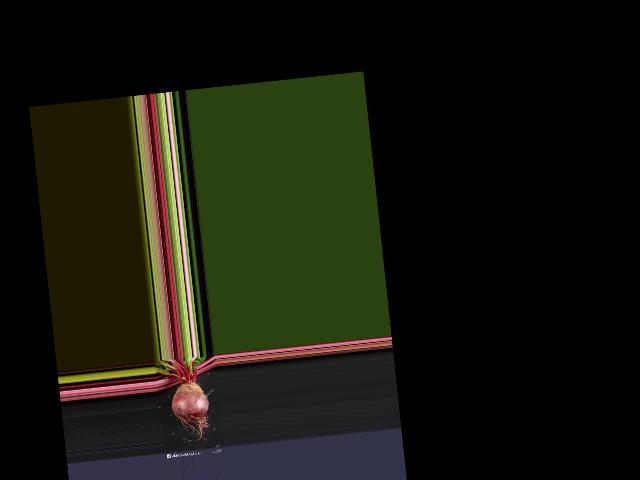beet: (154, 355, 213, 448)
